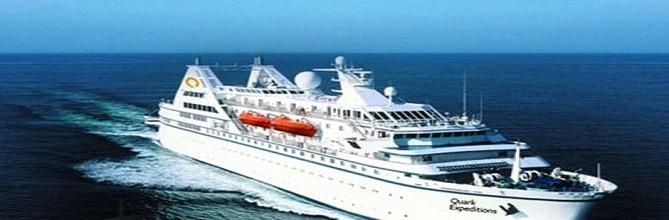youlun: (136, 46, 619, 220)
